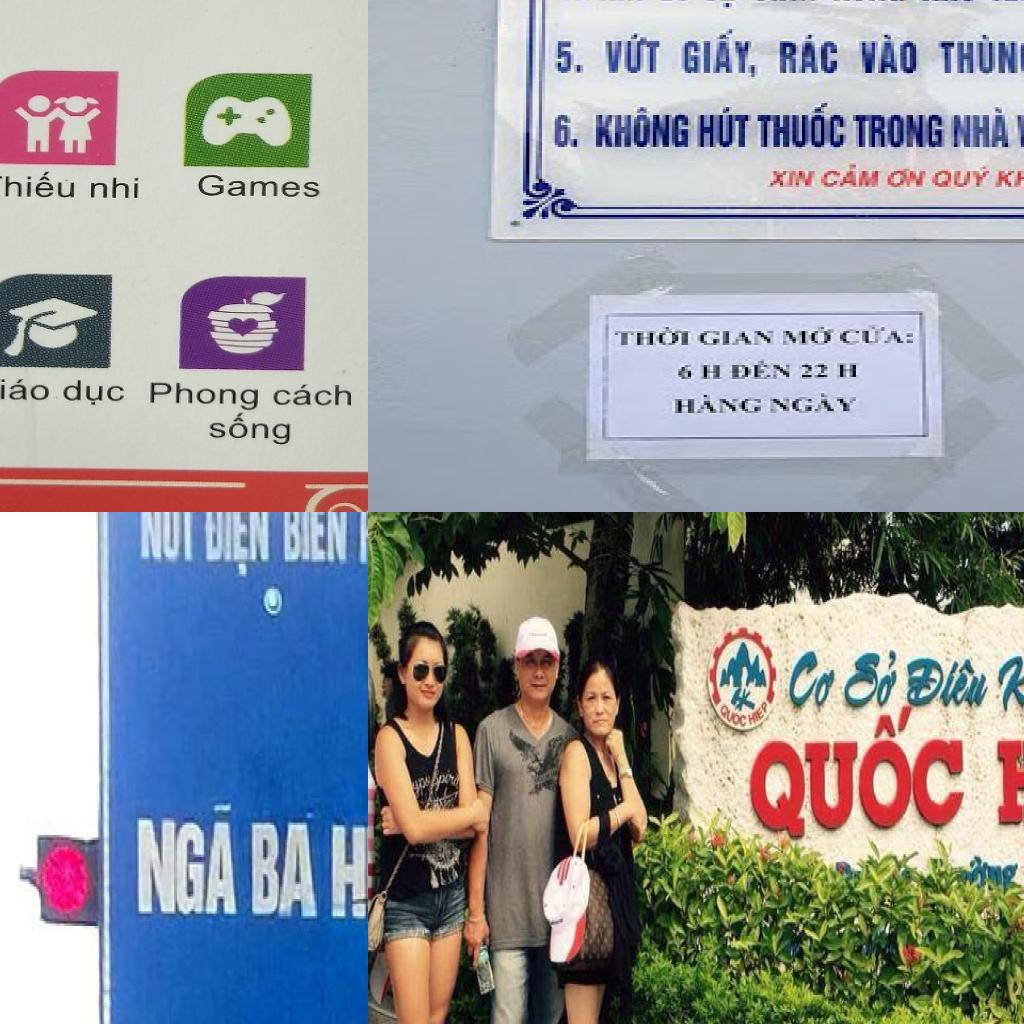text: (744, 701, 972, 846), (133, 800, 242, 924), (249, 818, 323, 926), (328, 790, 368, 926), (905, 653, 994, 710), (199, 512, 272, 581), (754, 101, 850, 151), (590, 107, 694, 153), (144, 374, 266, 413), (678, 27, 761, 81), (279, 512, 352, 571), (935, 35, 1024, 77), (853, 113, 948, 151), (844, 646, 900, 710), (134, 512, 200, 566), (785, 648, 838, 714), (188, 172, 322, 198), (0, 165, 83, 204), (599, 33, 669, 77), (856, 31, 922, 77), (777, 33, 843, 77), (948, 107, 1014, 151), (694, 107, 758, 151), (268, 377, 355, 407), (85, 172, 154, 207), (58, 377, 130, 409), (669, 395, 767, 417), (0, 372, 55, 410), (818, 163, 887, 191), (612, 327, 697, 349), (697, 327, 780, 349), (929, 165, 998, 191), (996, 652, 1024, 716), (840, 325, 919, 347), (729, 359, 796, 383), (552, 37, 590, 77), (764, 167, 821, 191), (780, 327, 840, 349), (799, 361, 865, 381), (552, 109, 583, 151), (884, 167, 932, 191), (675, 361, 726, 383), (718, 702, 747, 732), (992, 165, 1024, 191), (747, 698, 773, 729), (1014, 105, 1024, 157), (697, 0, 741, 11)
